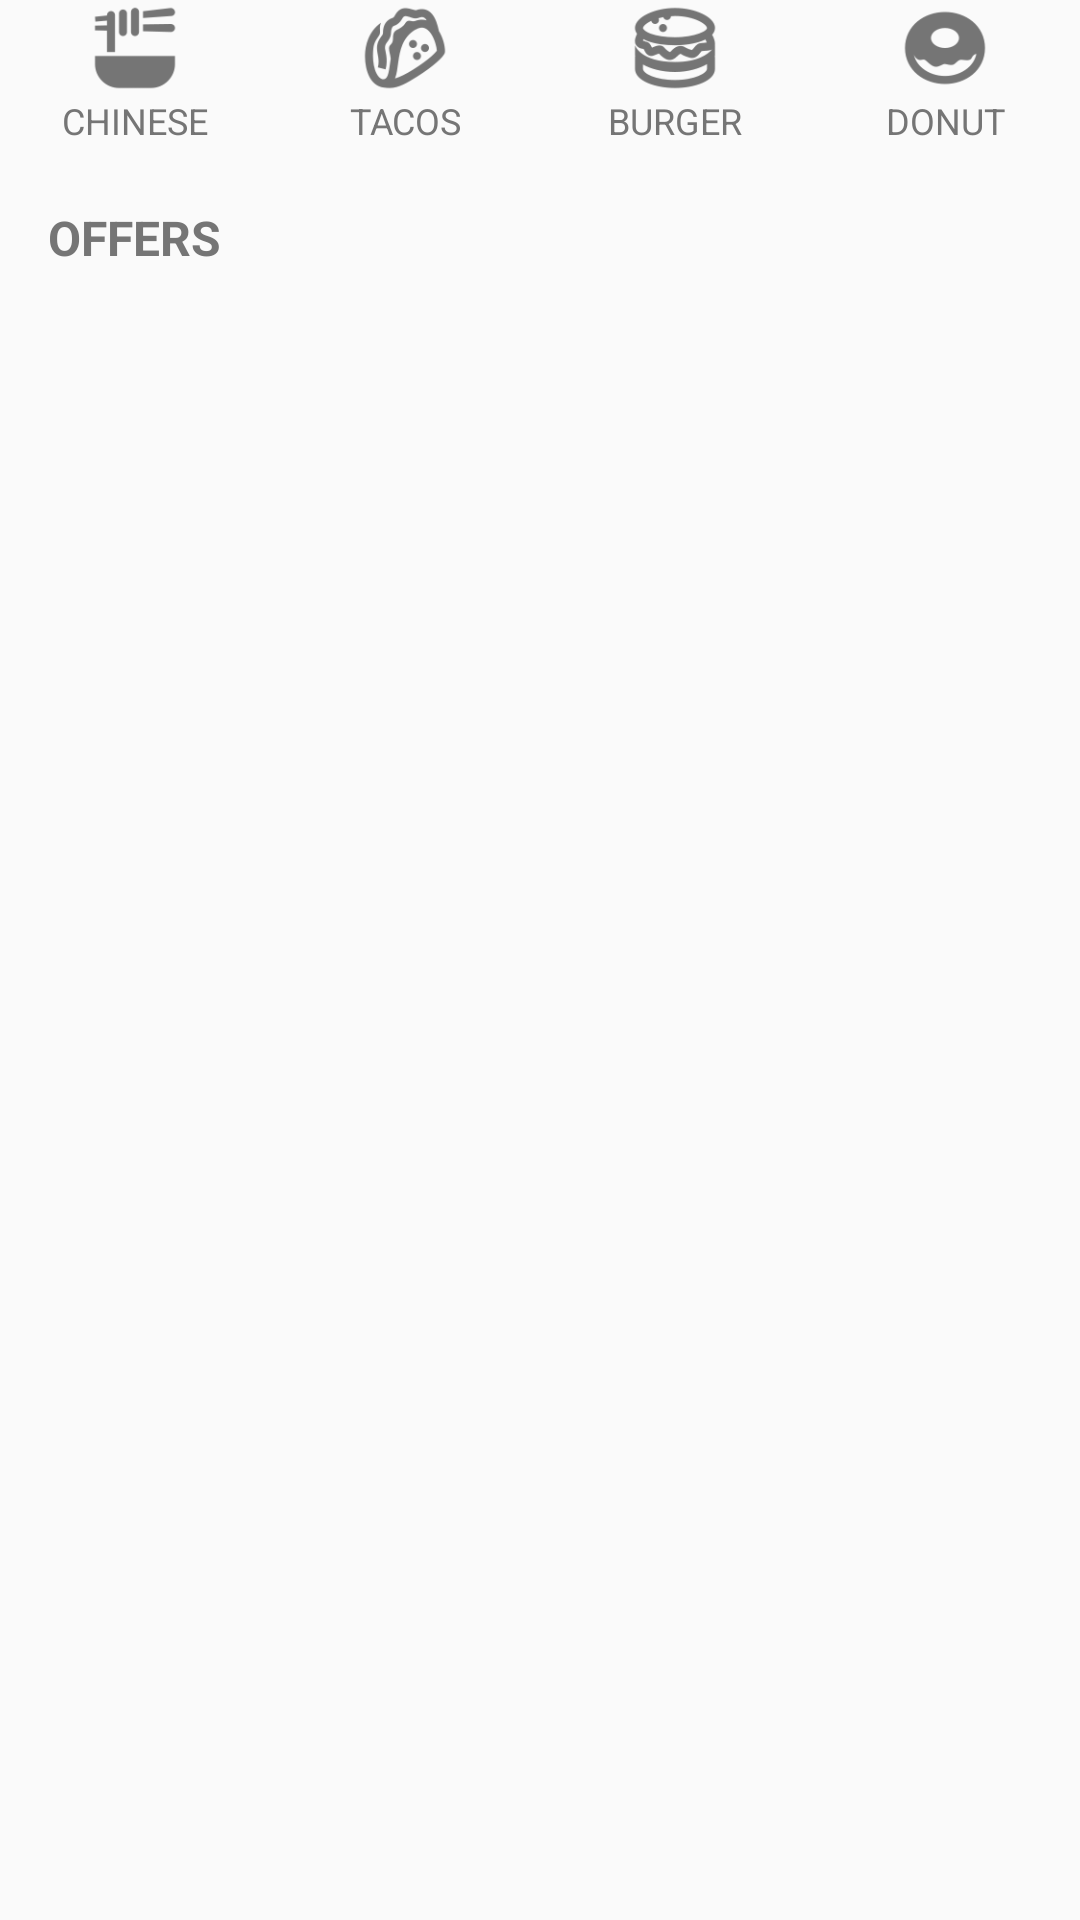

Icon click points for this 1080*1920 phone screenshot, format (x=x, y=y):
noodles: (x=135, y=48)
